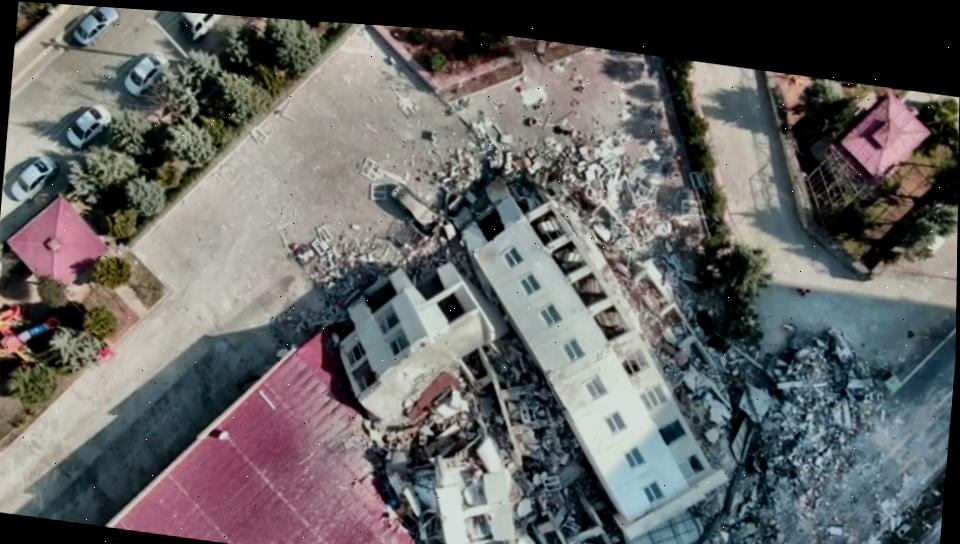kapali: (740, 362, 952, 544)
